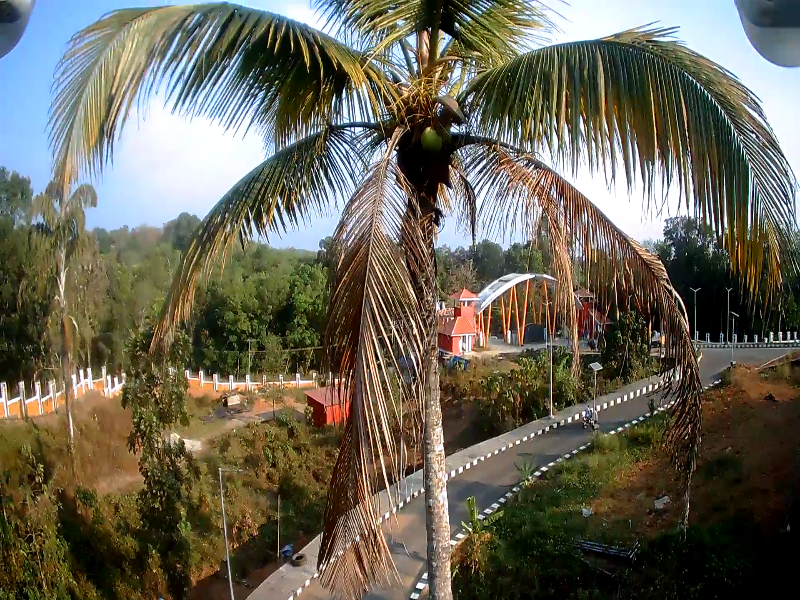coconut: (415, 123, 442, 153)
